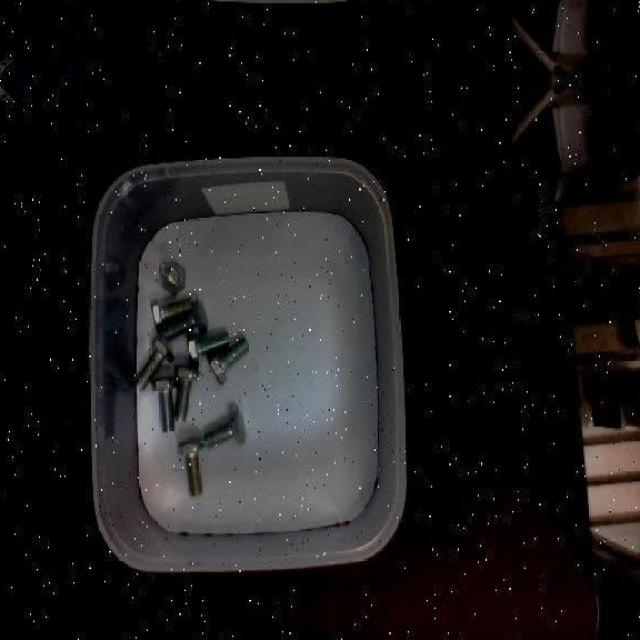screw: (136, 334, 176, 390), (207, 336, 250, 384), (165, 298, 208, 339), (204, 406, 247, 446), (152, 373, 179, 433), (188, 331, 230, 367), (178, 437, 203, 497), (175, 364, 201, 419), (151, 299, 193, 333), (161, 260, 186, 294)
